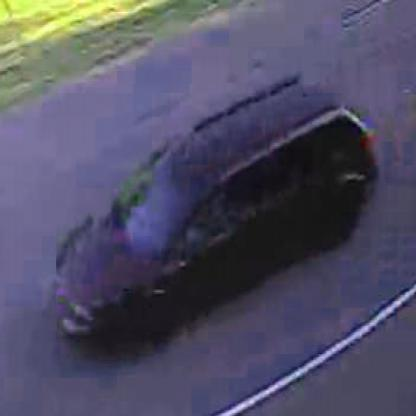car: (56, 85, 380, 342)
